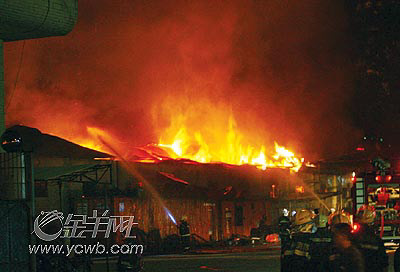fire: (145, 108, 307, 177)
smoke: (55, 15, 315, 102)
